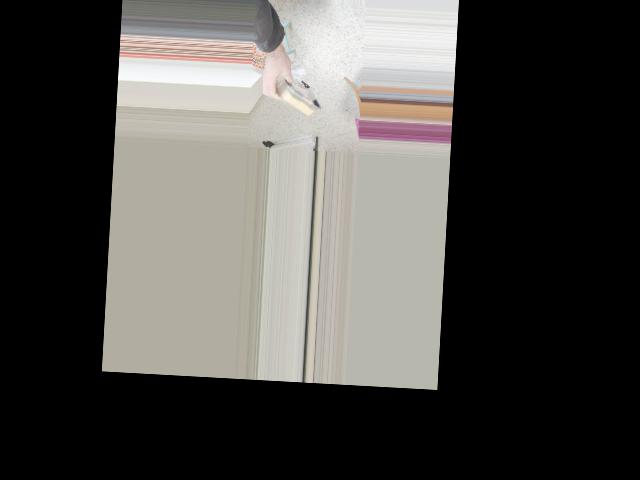cheese: (253, 62, 332, 126)
